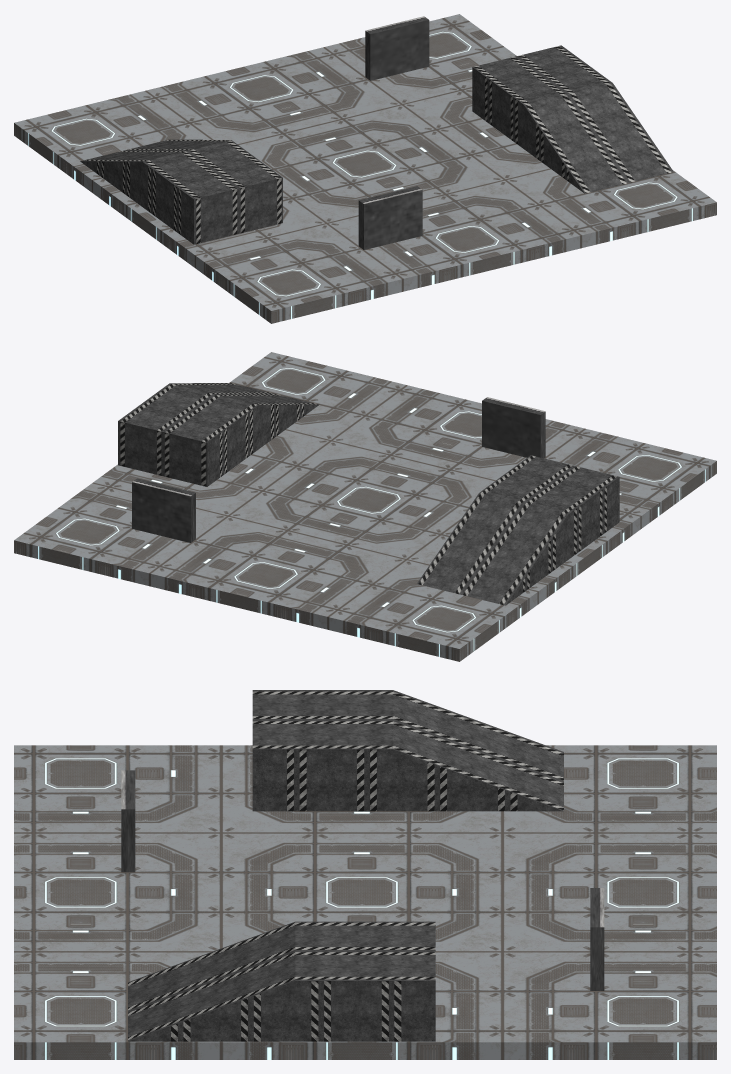
The model's file is level-01.glb.
3 renders of one model, top to bottom at view 1: azimuth 30°, elevation 25°; view 2: azimuth 150°, elevation 25°; view 3: azimuth 270°, elevation 25°, orthographic. The views are drawn at different scales.
Parts seen in each view (by area): view 1: Plane, Cube.006, Cube.007, Cube.003, Cube; view 2: Plane, Cube.007, Cube.006, Cube.003, Cube; view 3: Plane, Cube.007, Cube.006, Cube.003, Cube.
Boxes of the visible parts, <box> form: Plane: <box>14,14,716,323</box>; Cube.006: <box>472,45,673,193</box>; Cube.007: <box>80,139,282,244</box>; Cube.003: <box>365,16,429,80</box>; Cube: <box>358,186,422,249</box>; Plane: <box>14,352,716,661</box>; Cube.007: <box>417,455,619,605</box>; Cube.006: <box>118,383,319,486</box>; Cube.003: <box>132,478,195,542</box>; Cube: <box>482,397,545,458</box>; Plane: <box>14,745,716,1059</box>; Cube.007: <box>252,690,563,811</box>; Cube.006: <box>128,921,435,1041</box>; Cube.003: <box>590,888,604,990</box>; Cube: <box>121,770,135,872</box>.
Bounding box in the file's own units: 100 × 12.78 × 100.
3 materials, 3 textured.
